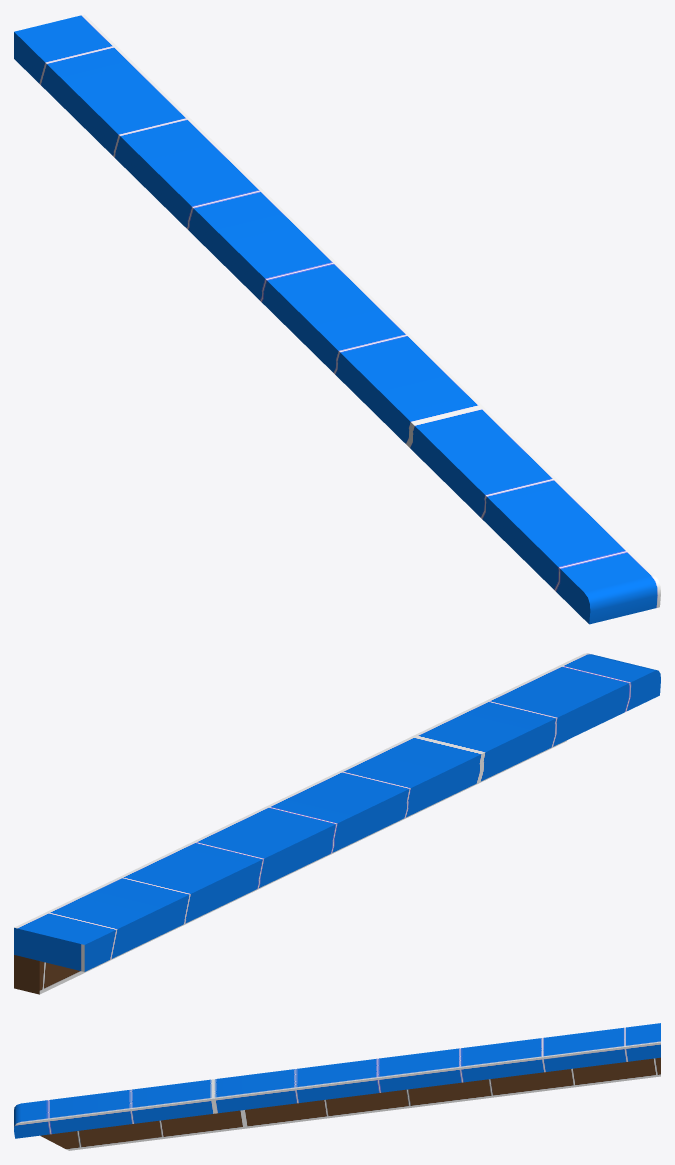
Rendered from M01Roof01_7.FBX.
3 views of the same model, one above another, from view 1: azimuth 30°, elevation 25°; view 2: azimuth 150°, elevation 25°; view 3: azimuth 270°, elevation 25° (orthographic). The views are drawn at different scales.
Visible parts, largest first — view 1: M01Roof01_7; view 2: M01Roof01_7; view 3: M01Roof01_7.
Part boxes in pixels (x1=…): M01Roof01_7: x1=14, y1=14, x2=660, y2=624; M01Roof01_7: x1=14, y1=653, x2=660, y2=994; M01Roof01_7: x1=14, y1=1023, x2=660, y2=1150.
Size of what is drawn, in the model's own units: 0.2758 by 0.7199 by 3.89.
